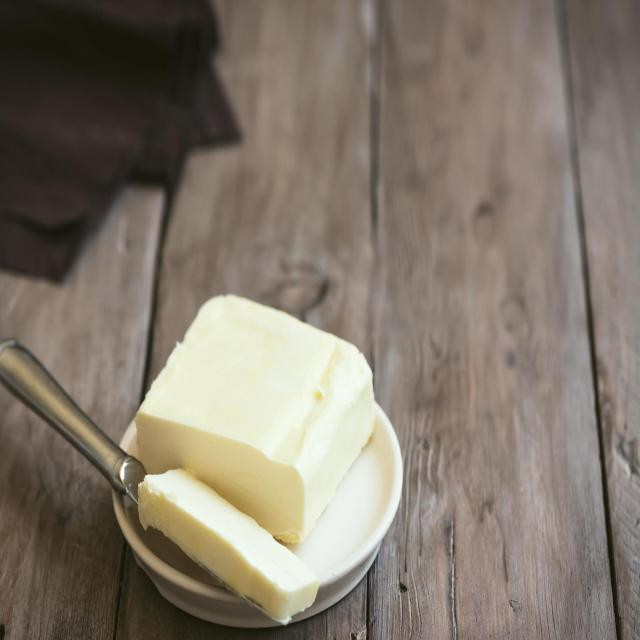butter: (131, 291, 377, 623)
